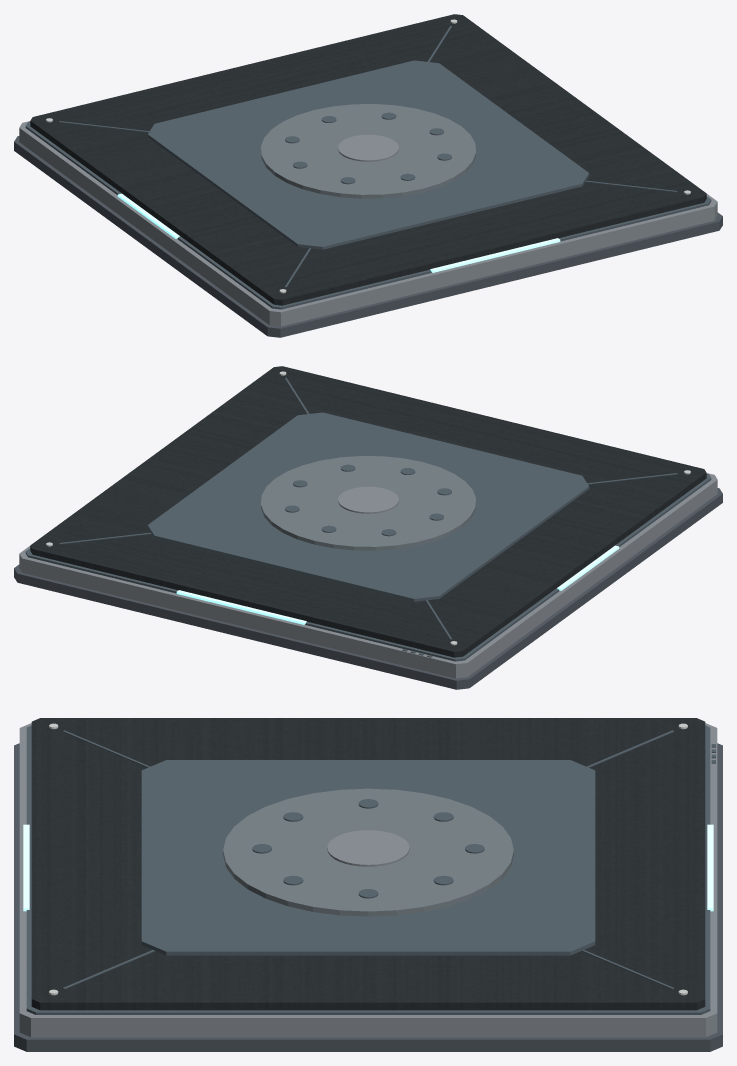
File: m03-metal-service-drain.glb
3 renders of one model, top to bottom at view 1: azimuth 30°, elevation 25°; view 2: azimuth 150°, elevation 25°; view 3: azimuth 270°, elevation 25°, orthographic. The views are drawn at different scales.
Visible parts, largest first — view 1: service-drain/003, service-drain/020, service-drain/021, service-drain/001, service-drain/000, service-drain/002, service-drain/030, service-drain/014; view 2: service-drain/003, service-drain/020, service-drain/021, service-drain/001, service-drain/000, service-drain/002, service-drain/030, service-drain/013; view 3: service-drain/003, service-drain/020, service-drain/021, service-drain/001, service-drain/000, service-drain/002, service-drain/030, service-drain/013, service-drain/014.
Part boxes in pixels (x1,y1,x2,y2): service-drain/003: [30, 14, 706, 305]; service-drain/020: [147, 60, 589, 249]; service-drain/021: [261, 104, 475, 198]; service-drain/001: [19, 121, 717, 326]; service-drain/000: [14, 136, 722, 337]; service-drain/002: [25, 121, 711, 309]; service-drain/030: [338, 134, 398, 161]; service-drain/014: [430, 238, 560, 272]; service-drain/003: [30, 366, 706, 657]; service-drain/020: [147, 412, 589, 601]; service-drain/021: [261, 456, 475, 550]; service-drain/001: [19, 473, 717, 678]; service-drain/000: [14, 488, 722, 689]; service-drain/002: [25, 473, 711, 661]; service-drain/030: [338, 486, 398, 513]; service-drain/013: [176, 590, 306, 624]; service-drain/003: [31, 718, 705, 1010]; service-drain/020: [141, 760, 595, 955]; service-drain/021: [223, 788, 513, 916]; service-drain/001: [19, 723, 717, 1037]; service-drain/000: [14, 743, 722, 1051]; service-drain/002: [26, 725, 710, 1014]; service-drain/030: [327, 830, 409, 866]; service-drain/013: [707, 824, 713, 911]; service-drain/014: [23, 824, 29, 911].
Size of the model in its own units: 1 by 0.085 by 1.
Materials: 7 (1 with a texture image).
